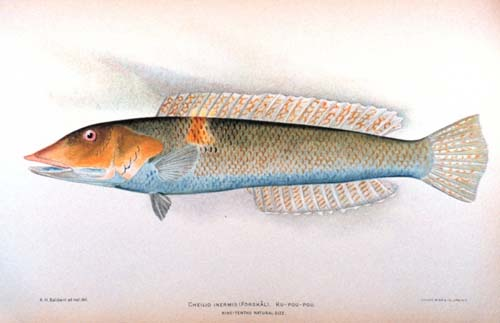fish: (23, 92, 489, 218)
